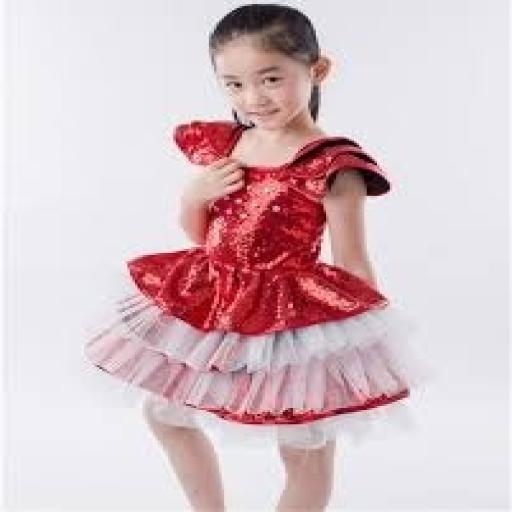dancing: (82, 0, 418, 510)
